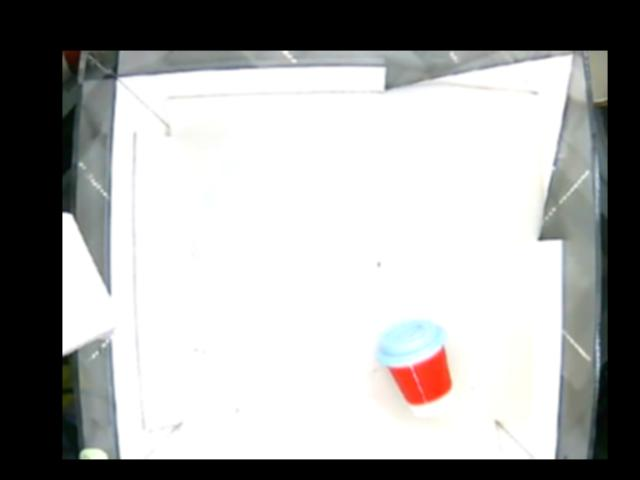Bottle: (156, 149, 287, 279)
Cup: (379, 318, 455, 415)
